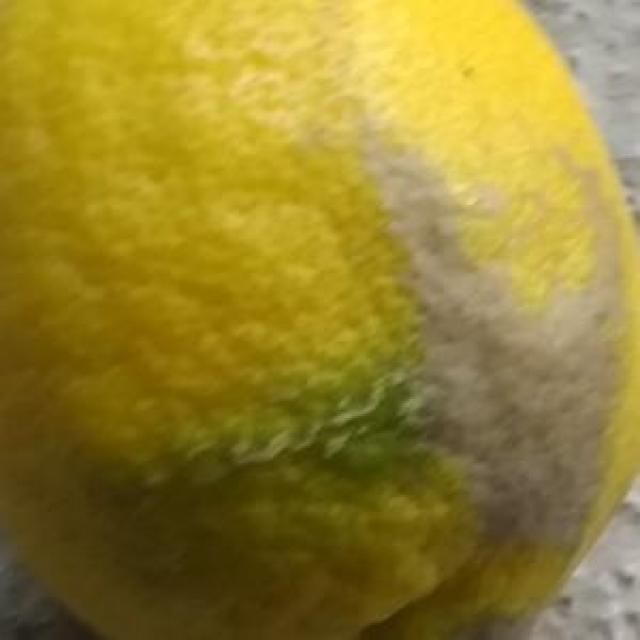lemon: (2, 4, 640, 639)
